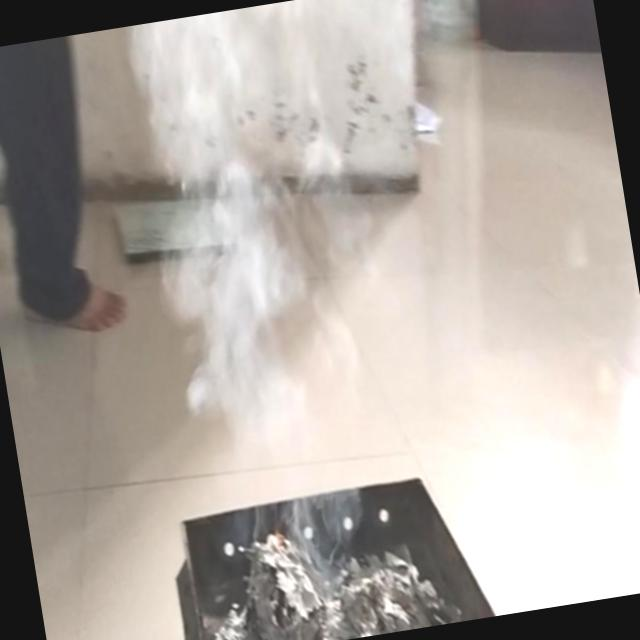smoke: (110, 0, 461, 640)
